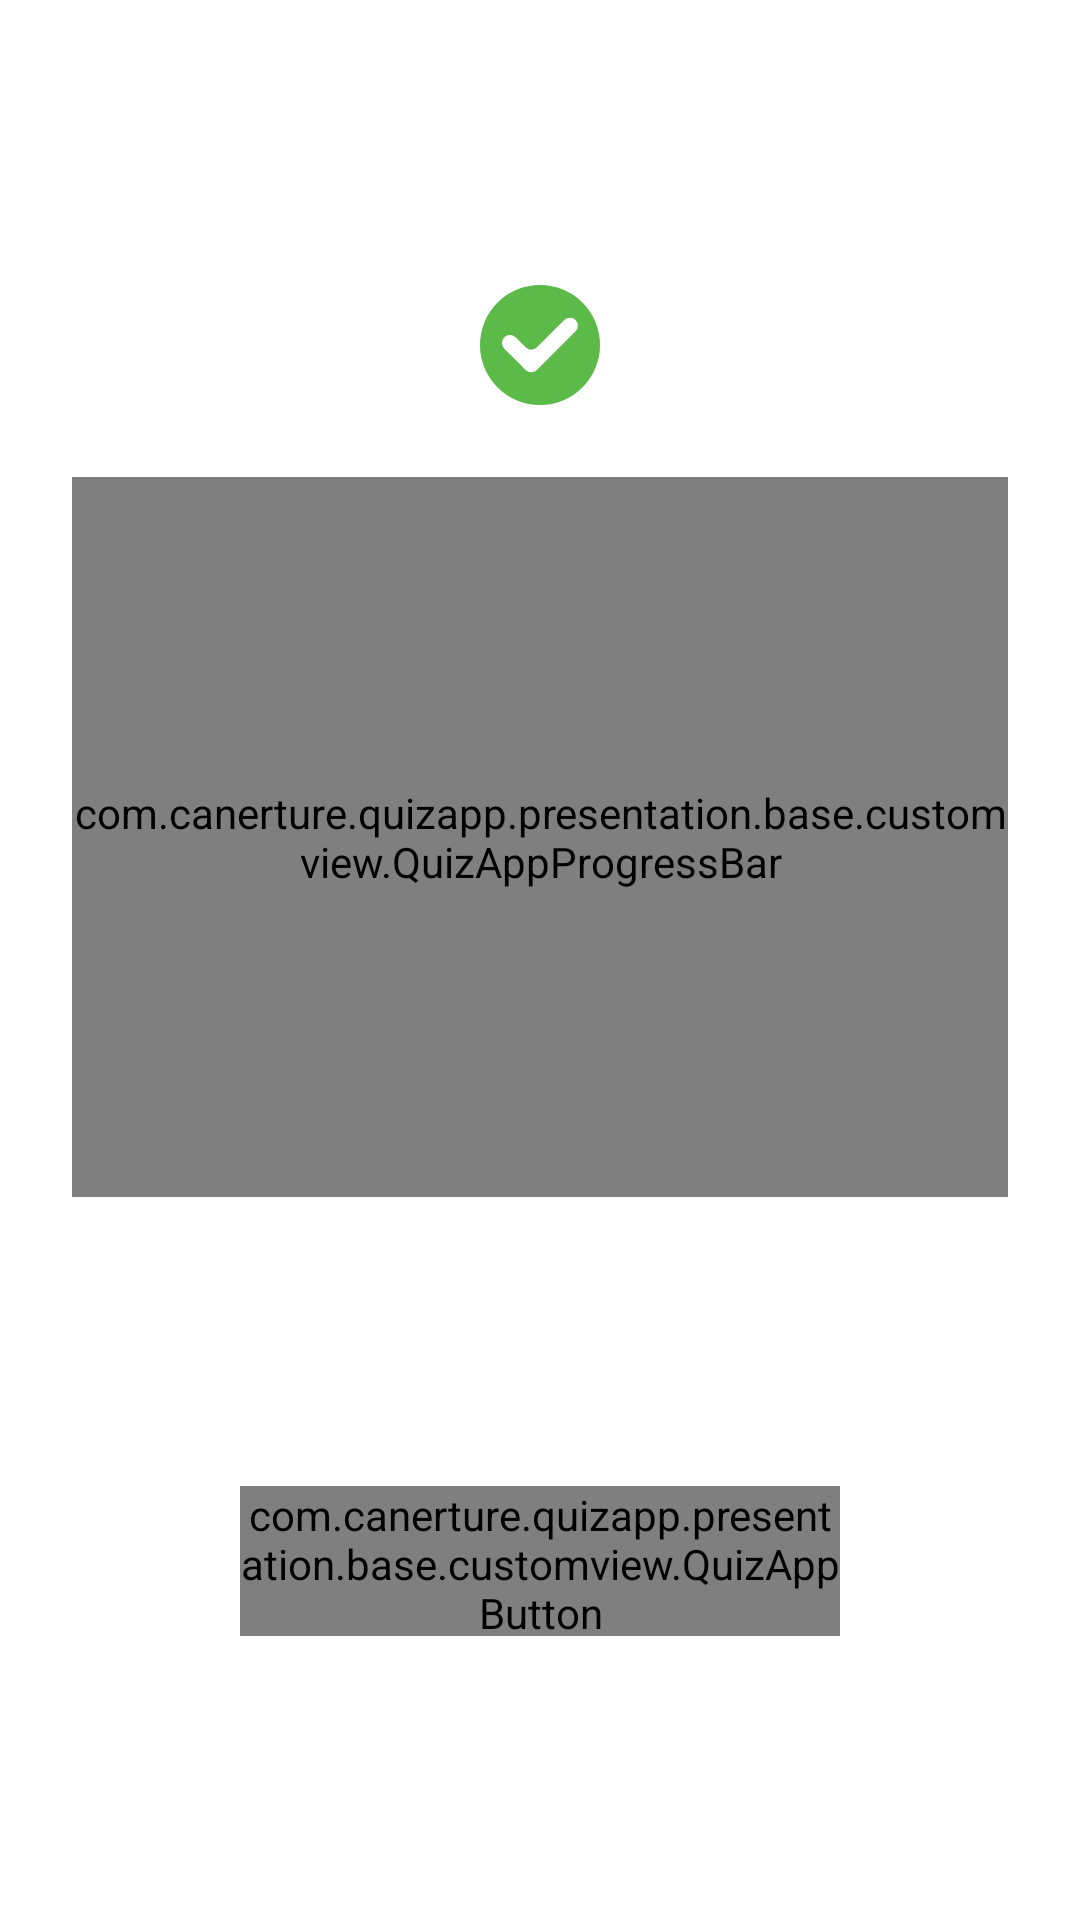

Icon bounding boxes for this 1080 x 1920 phone screenshot, format box(x1, y1, x2, y2):
correct: box(480, 285, 600, 405)
